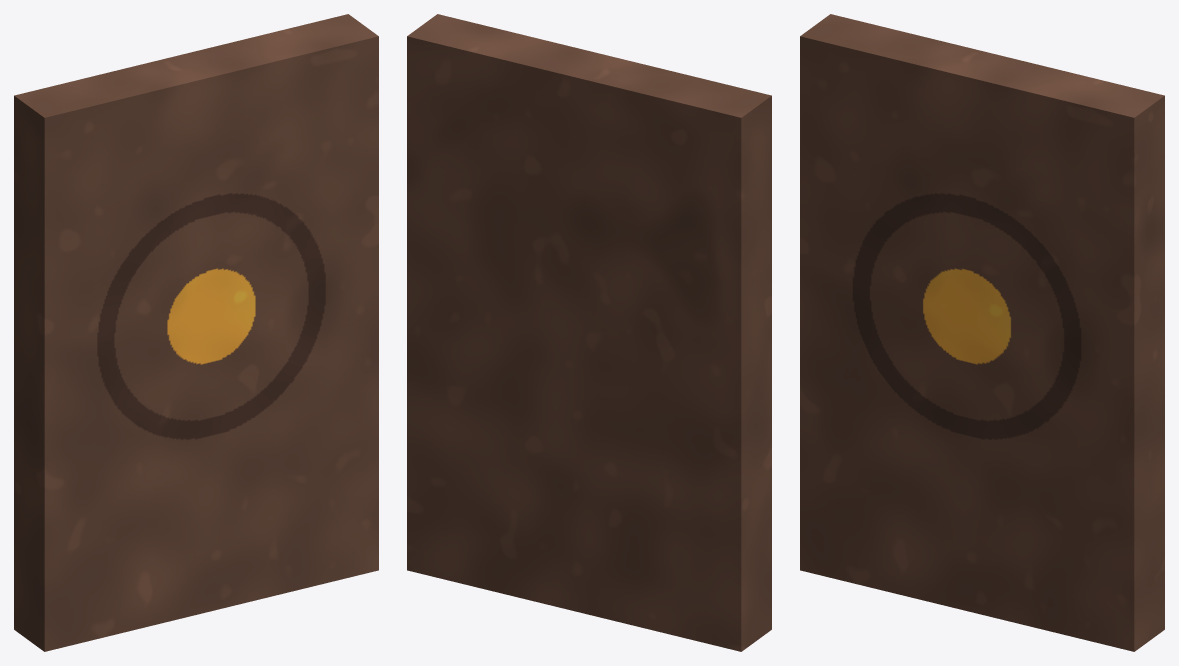
The model's file is temple_door.glb.
3 views of the same model, side by side, from view 1: azimuth 30°, elevation 25°; view 2: azimuth 150°, elevation 25°; view 3: azimuth 330°, elevation 25° (orthographic).
Parts seen in each view (by area): view 1: TempleDoor; view 2: TempleDoor; view 3: TempleDoor.
Boxes of the visible parts, bbox=[...] form: TempleDoor: bbox=[14, 14, 378, 651]; TempleDoor: bbox=[407, 14, 771, 651]; TempleDoor: bbox=[800, 14, 1164, 651].
Bounding box in the file's own units: 1.9 × 2.9 × 0.3.
1 material, 1 textured.
